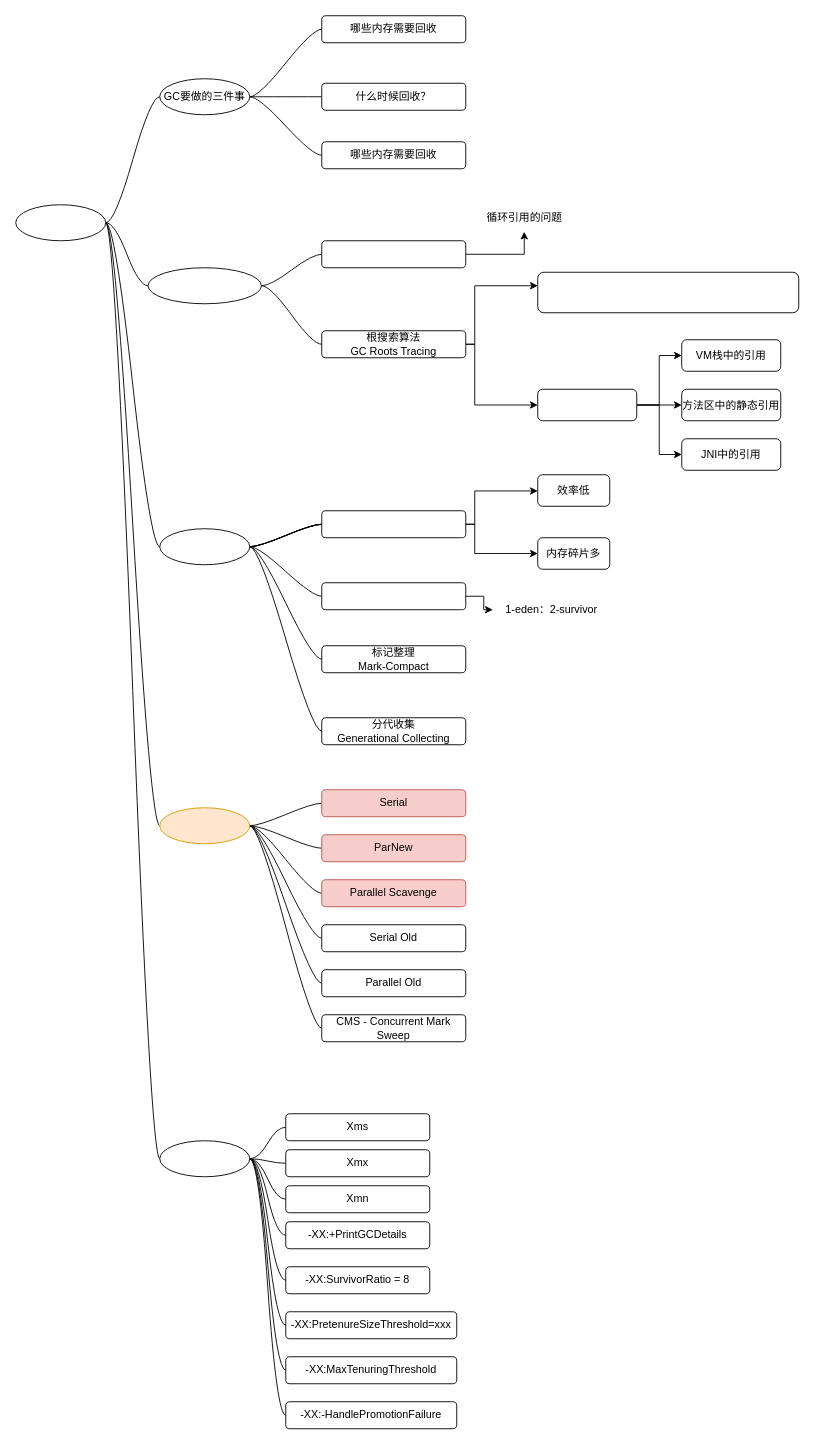
Image size: 815x1445. Some labels were removed from this diagram. Here are the shapes that lost their labels. From the top down, the box of each, then its label:
(15, 204, 106, 241): JVM GC
(321, 240, 466, 268): 引用计数法 Reference Counting
(147, 267, 261, 304): 哪些对象已经”死亡“
(537, 271, 799, 313): 通过一系列称为GC Roots的点作为起点，向下搜索。 当一个对象到任何GC Roots没有引用链相连，说明其已经”死亡“
(537, 388, 637, 421): GC Roots
(321, 510, 466, 538): 标记清除 Mak-Sweep
(159, 528, 250, 565): 垃圾收集算法
(321, 582, 466, 610): 复制 Coping
(159, 807, 250, 844): 垃圾收集器
(159, 1140, 250, 1177): 参数
